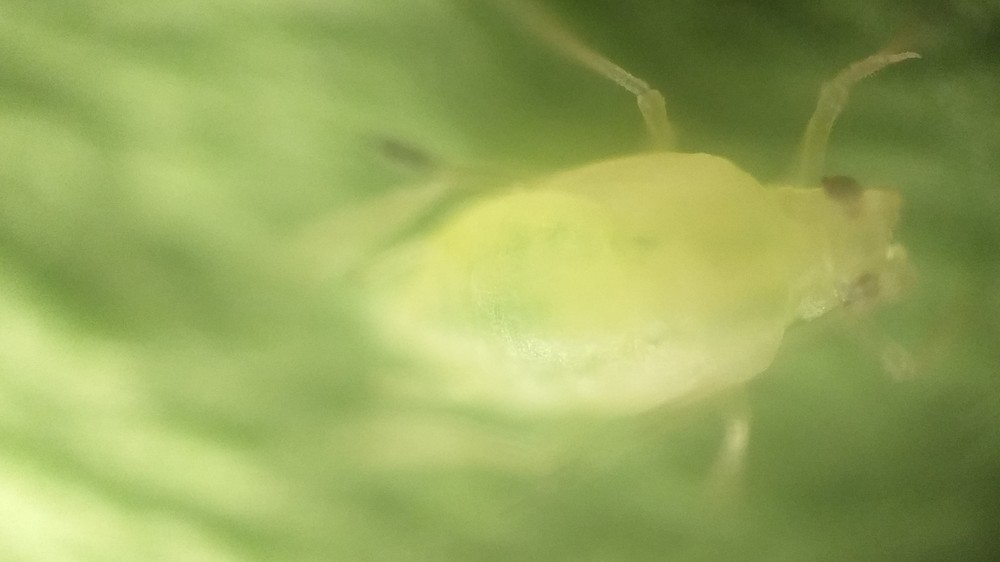Pulgon: (280, 32, 977, 503)
